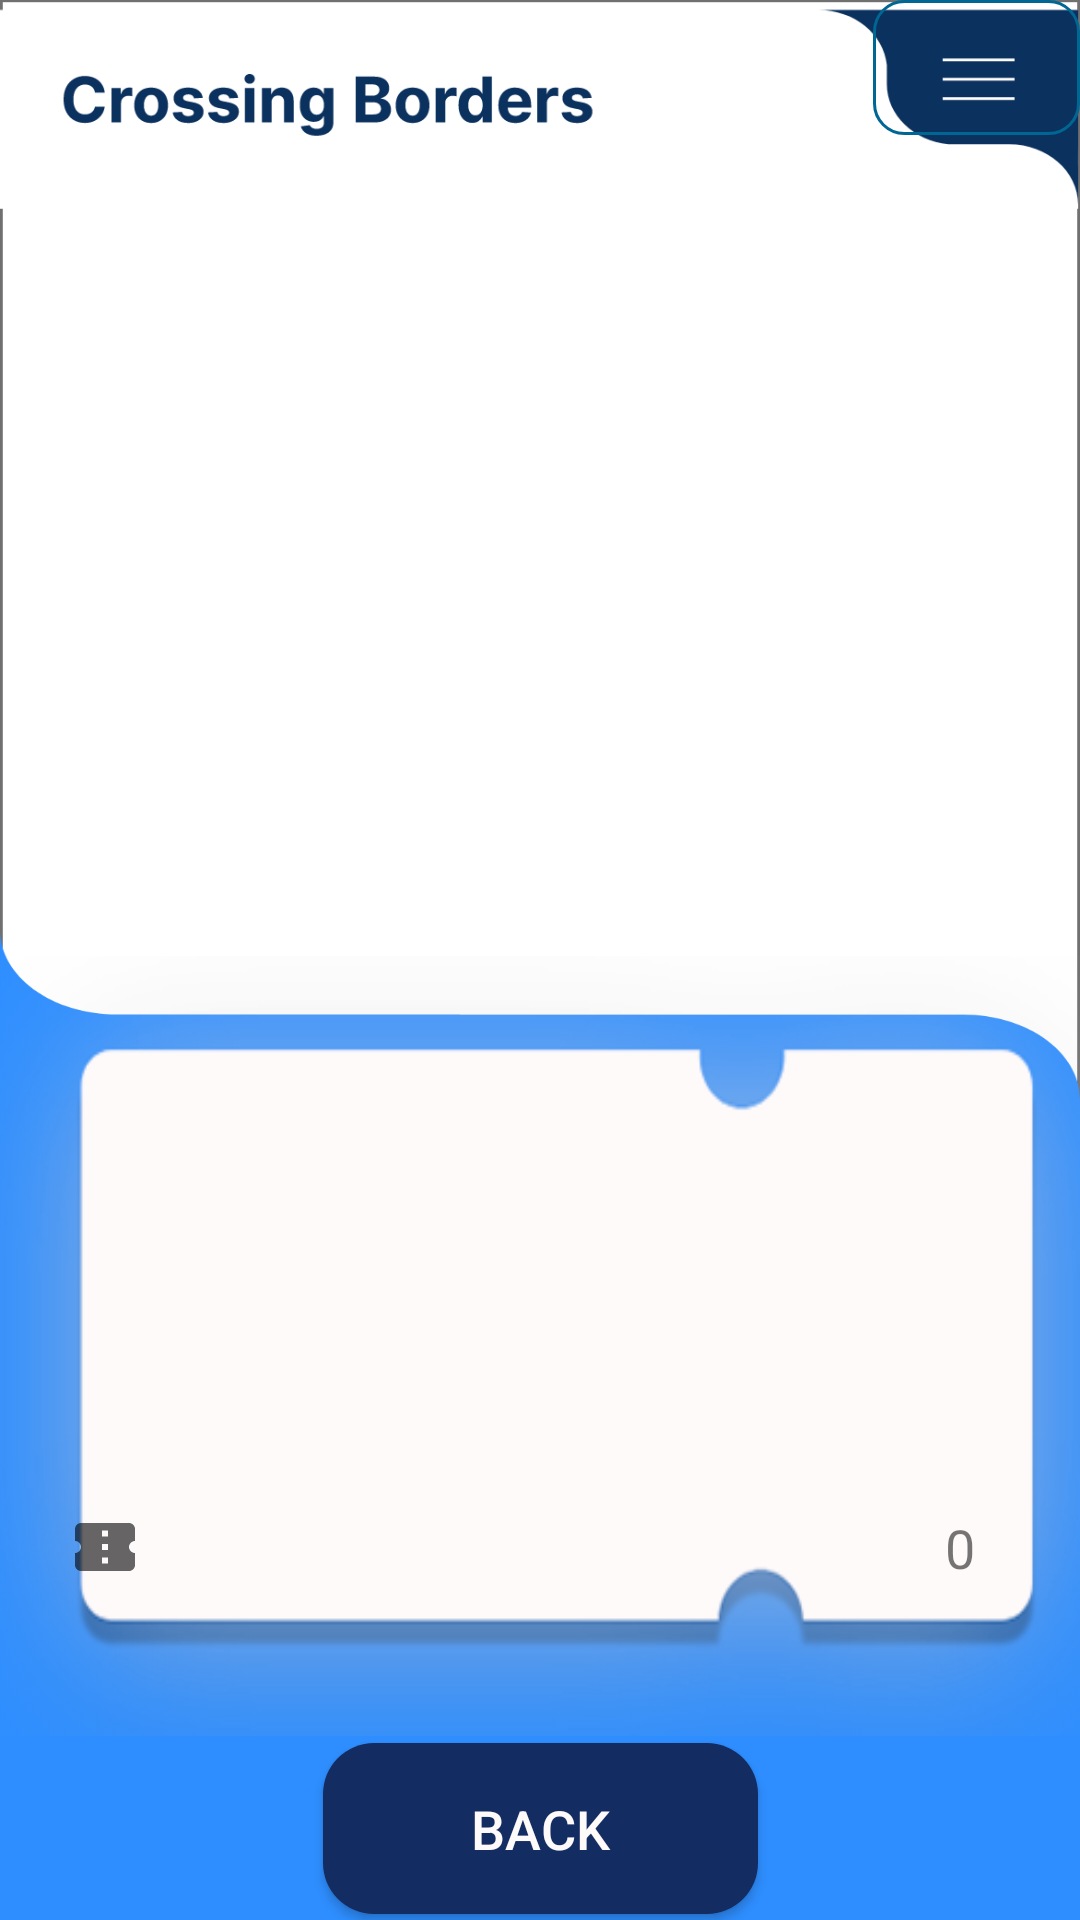

Icon bounding boxes for this 1080w x 1920h phone screenshot, format [left=x1, top=y1, right=x2, bottom=y2]:
ticket: [left=69, top=1511, right=135, bottom=1583]
